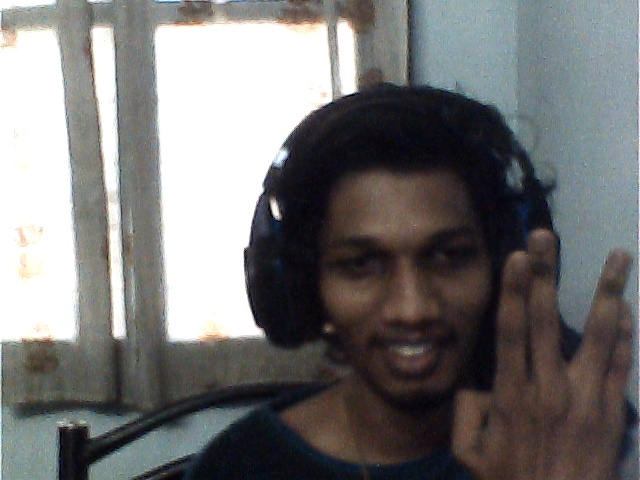LiveLong: (453, 229, 636, 480)
